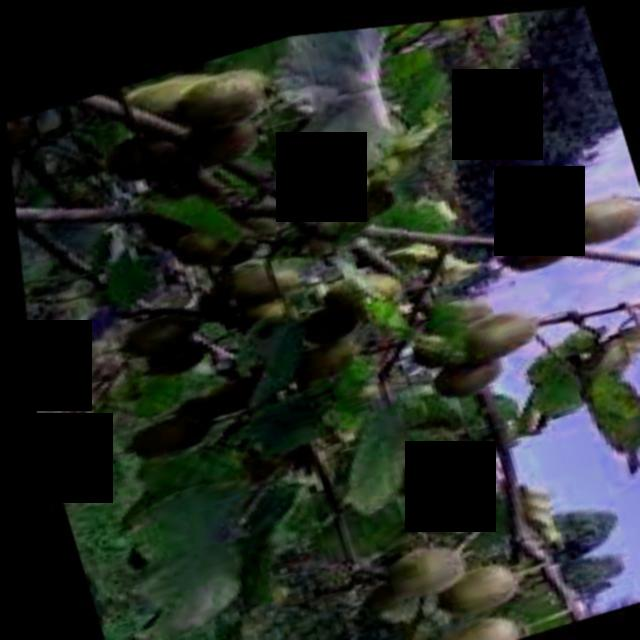kiwi: (162, 49, 285, 130), (545, 184, 640, 254), (371, 529, 464, 597), (419, 552, 514, 616), (313, 253, 408, 317), (204, 246, 298, 306), (488, 214, 577, 277), (458, 298, 542, 360), (422, 345, 504, 400), (115, 296, 201, 348)
